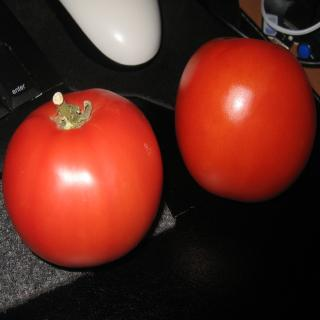tomato: (0, 85, 162, 270), (174, 35, 318, 206)
